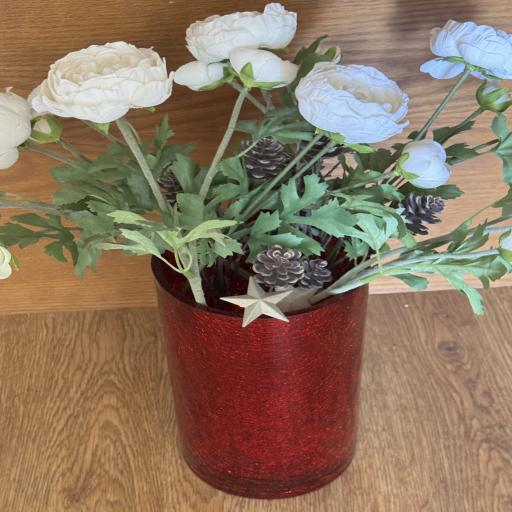Plant Pot: (150, 227, 368, 498)
